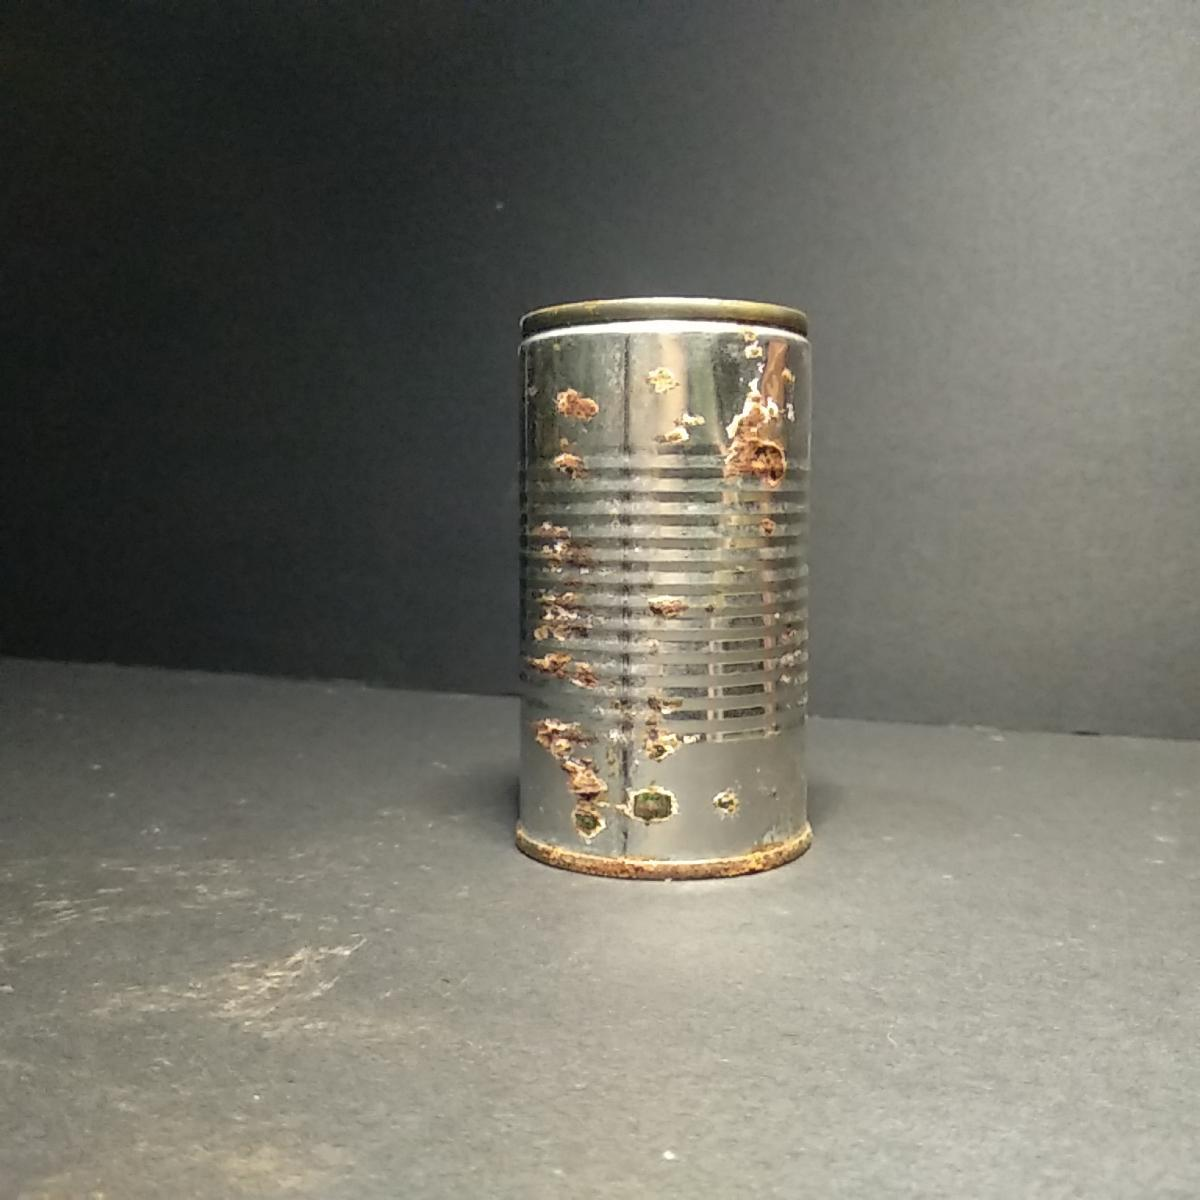Rusted: (496, 276, 824, 892)
